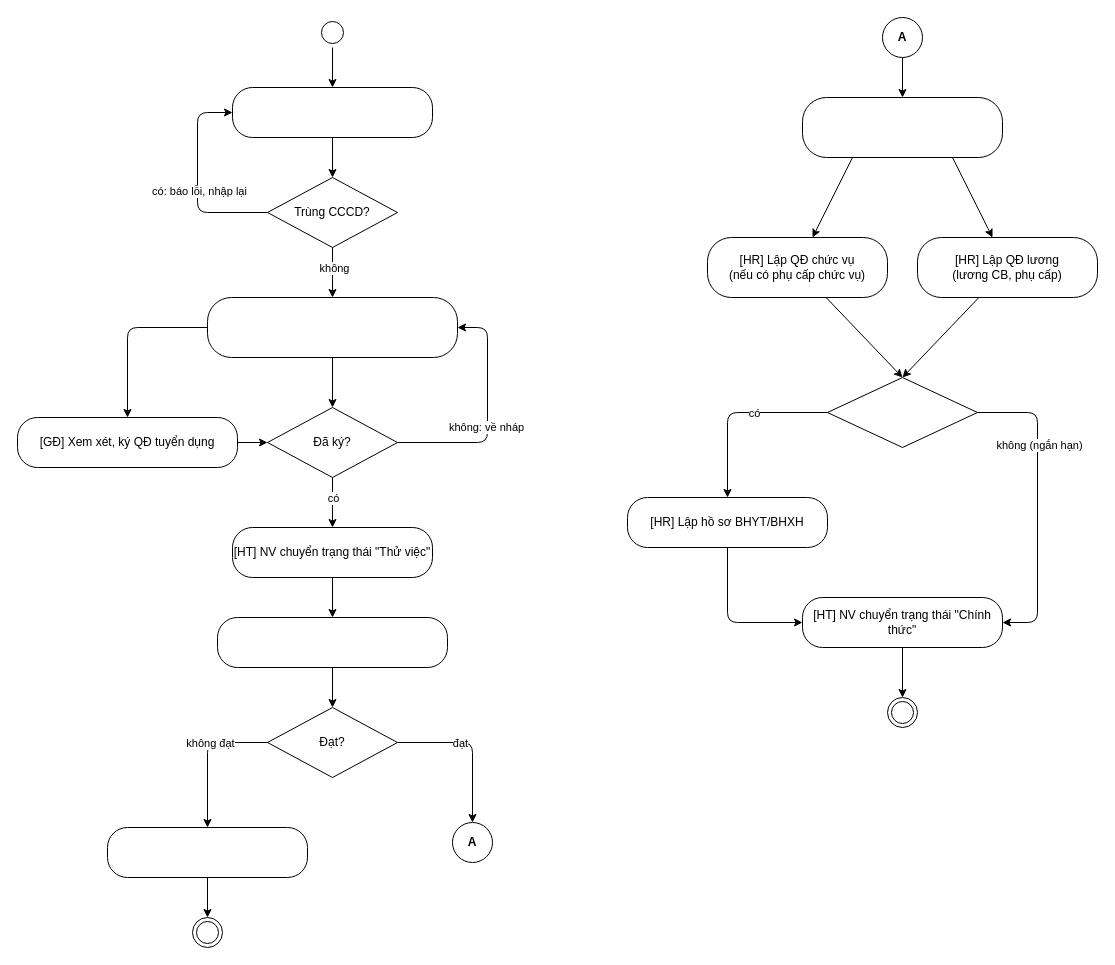
This 1115x965 diagram has some shape labels left out. The shapes that lost their labels are listed below. From the top down, each one's centre as x and y in pixels, then its label:
point (332, 112): [HR] Nhập hồ sơ nhân viên
point (902, 127): [HR] Ký hợp đồng (chọn loại HĐ) [GĐ ký]
point (332, 327): [HR] Lập QĐ tuyển dụng (phòng ban, TG & lương thử việc, điều khoản hai bên)
point (902, 412): Hợp đồng dài hạn?
point (332, 642): [TP] Theo dõi và đánh giá khi hết thời gian thử việc
point (207, 852): [HR] Chấm dứt thử việc NV chuyển "Nghỉ việc"
